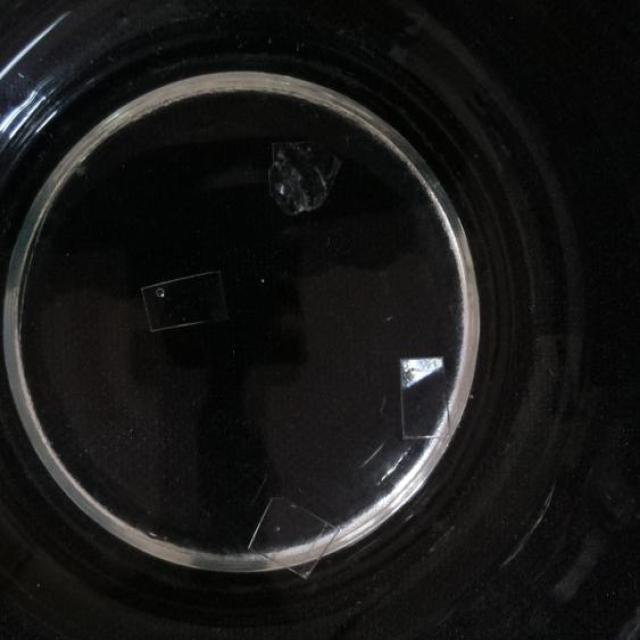fiber: (244, 493, 335, 577), (263, 138, 342, 215), (138, 269, 227, 336), (398, 351, 450, 438), (354, 434, 409, 488), (618, 609, 639, 640)
